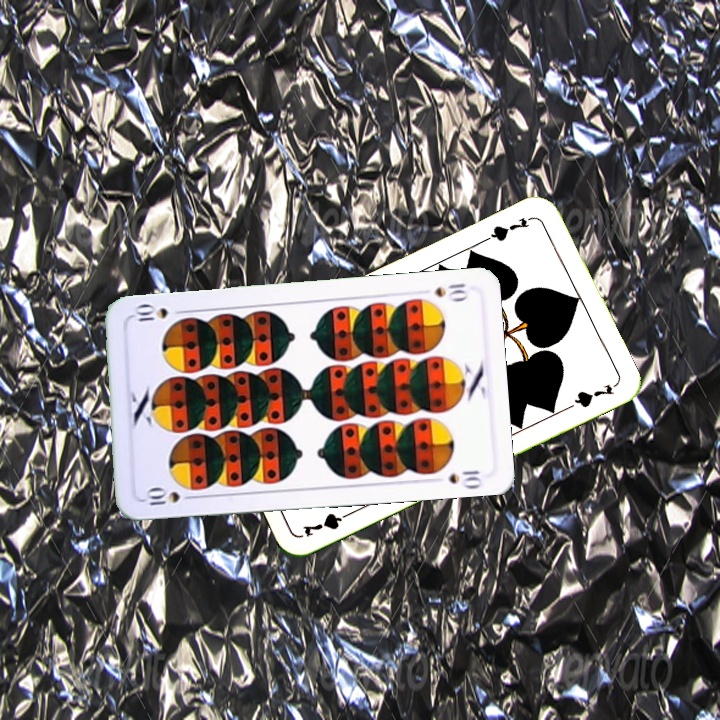G7: (298, 507, 356, 540), (481, 212, 537, 245)
S10: (140, 483, 199, 509), (431, 279, 470, 303)
